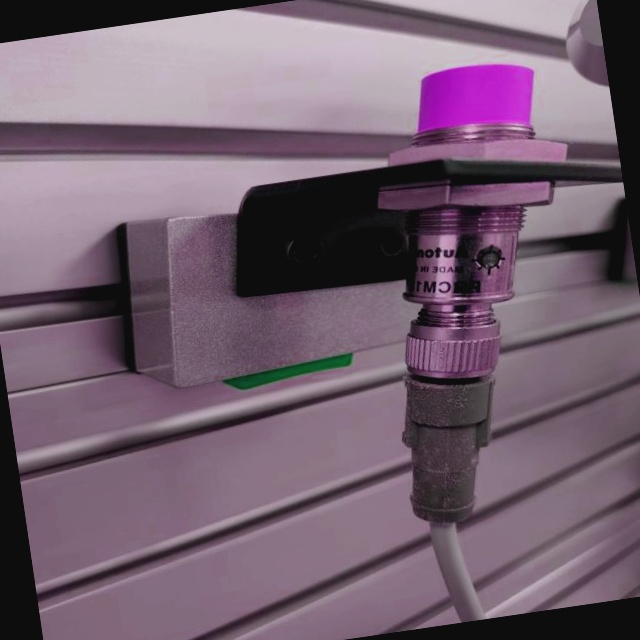inductive sensor: (87, 46, 640, 586)
